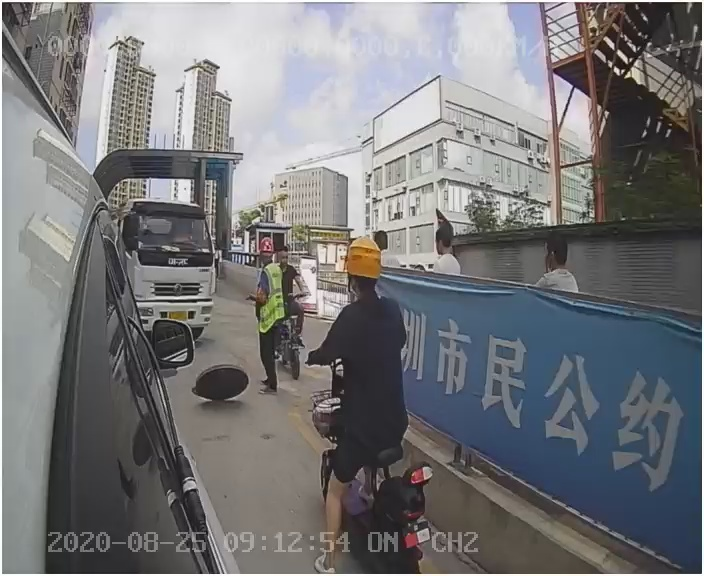person: (247, 231, 296, 400)
